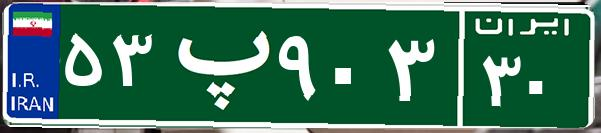0: (330, 28, 385, 110), (525, 38, 570, 115)
3: (385, 28, 445, 110), (475, 38, 525, 113), (110, 28, 158, 105)
5: (57, 26, 110, 107)
9: (273, 28, 330, 110)
پ: (158, 15, 273, 115)
